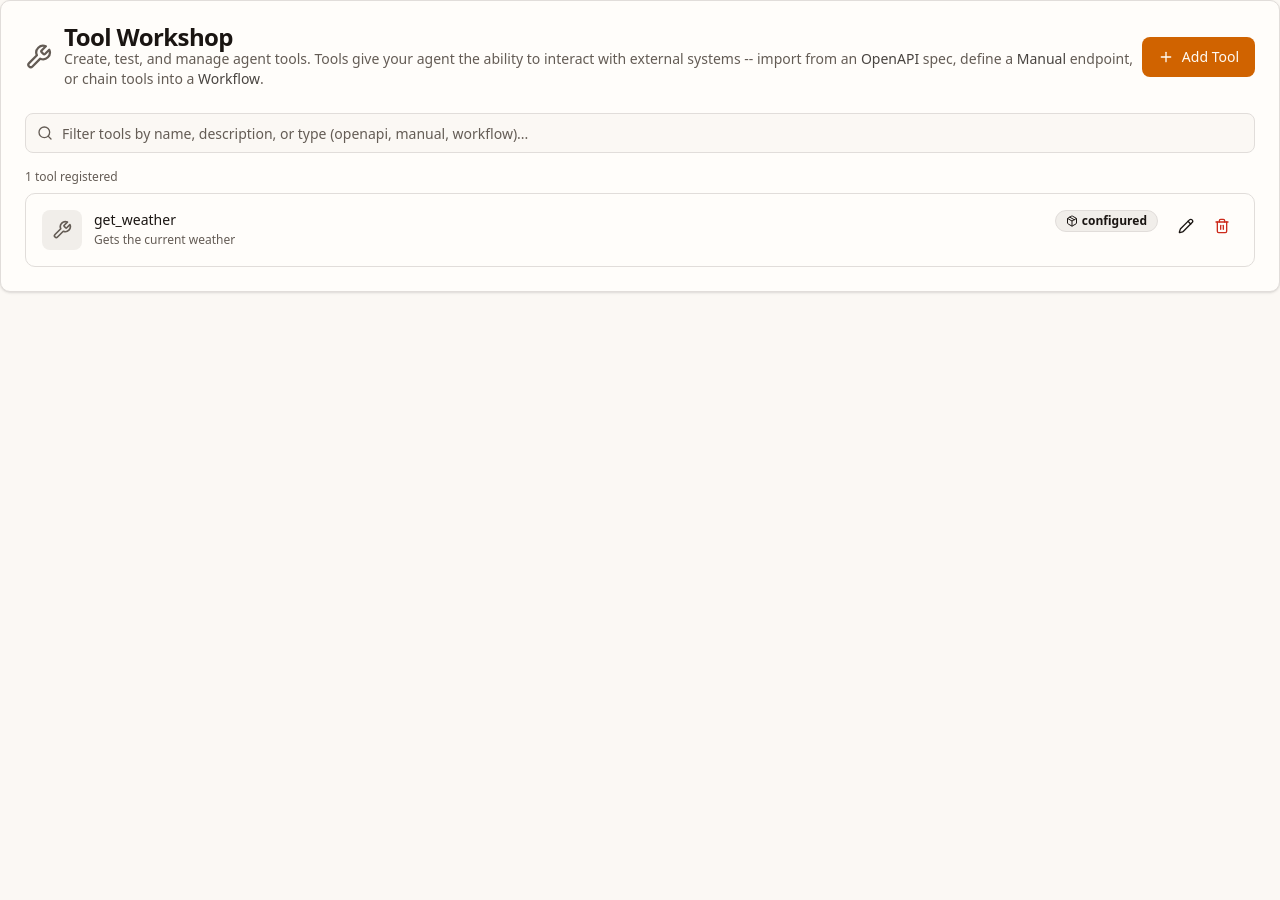
Test case: ToolsPage edit dialog -- runtime edit never submits base-only fields › keeps the honesty envelope: a rejected write never closes the dialog
Expected: the text "get_weather" is shown, [94,210,176,230]
Click the 2nd button at (1186, 226), box [1170,210,1202,242]
(page scrolled)
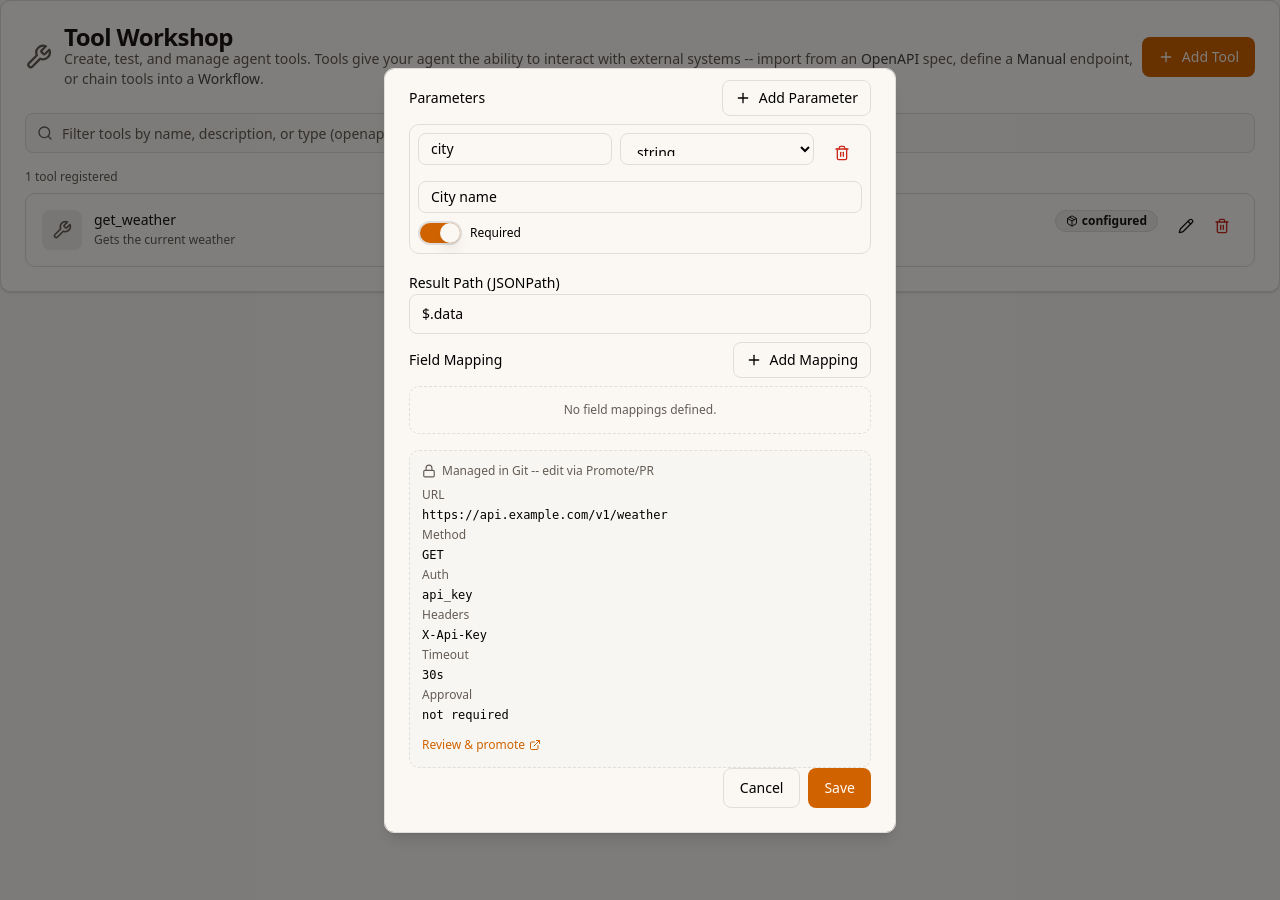
Click the button "Save" at (840, 788), box [808,768,871,808]
(page scrolled)
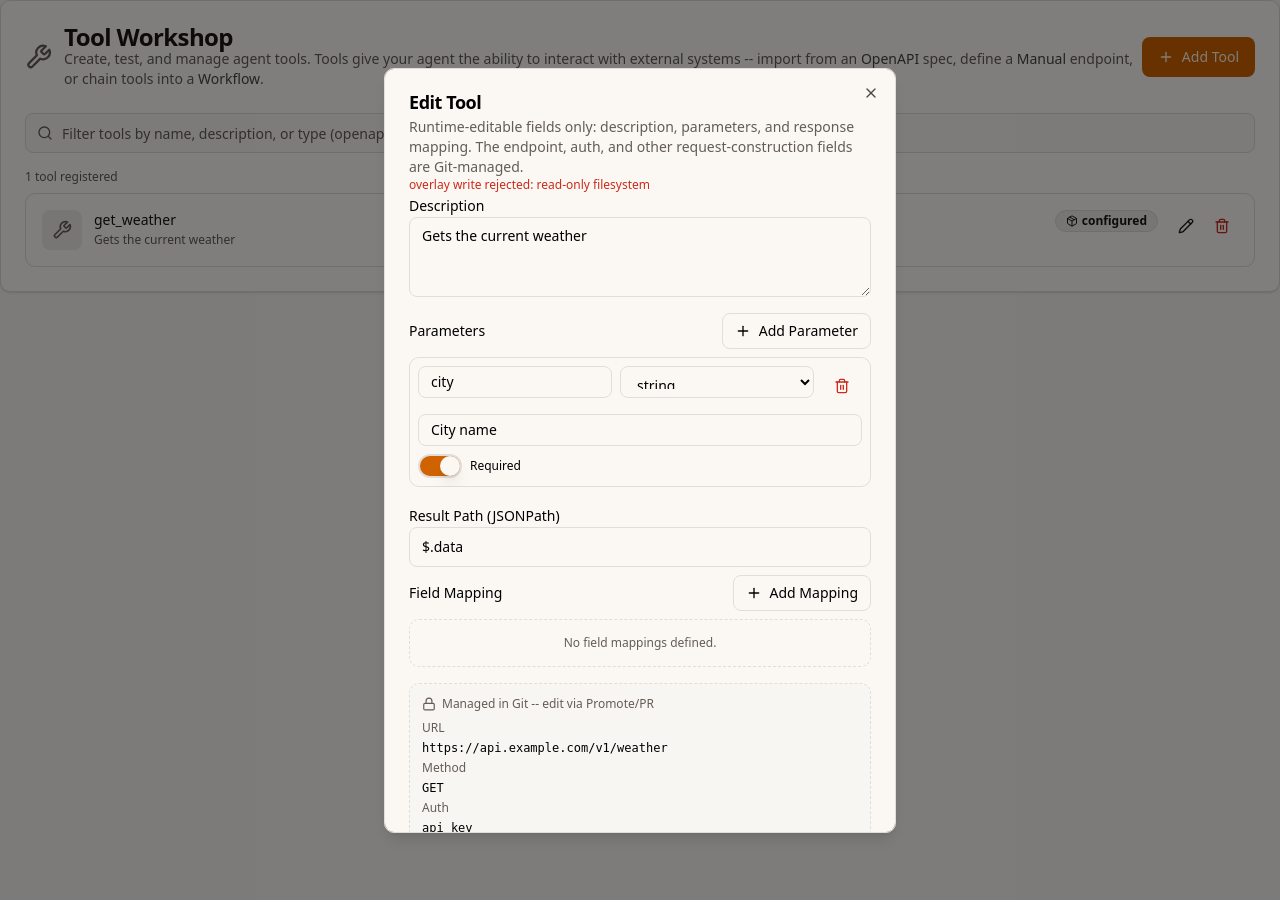
Expected: the text "overlay write rejected: read-only filesystem" is shown, [409,176,650,192]
Expected: the heading "Edit Tool" is shown, [409,90,481,114]
